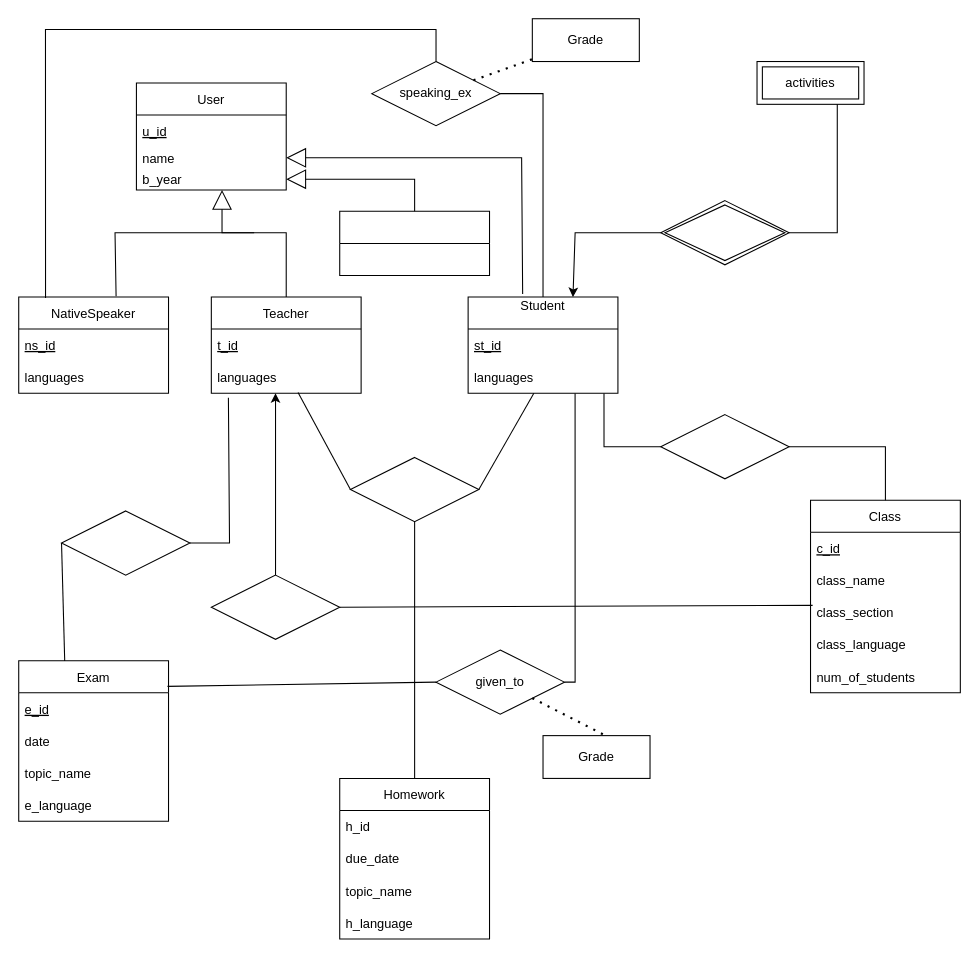
This 979x958 diagram has some shape labels left out. Each missing label, with the centre of its shape:
Admin: point (414, 243)
assign_hw: point (414, 489)
has: point (724, 232)
made_by: point (125, 542)
takes: point (724, 446)
thought_by: point (275, 606)
